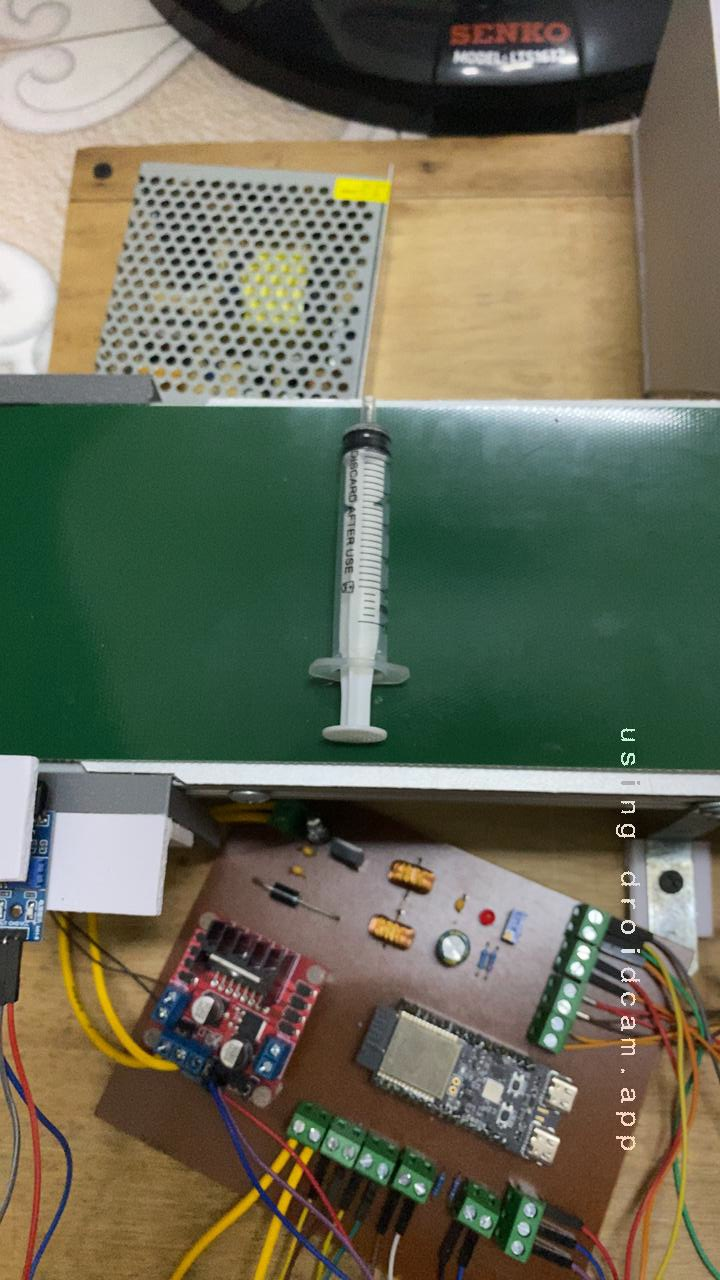syringe: (280, 415, 449, 765)
